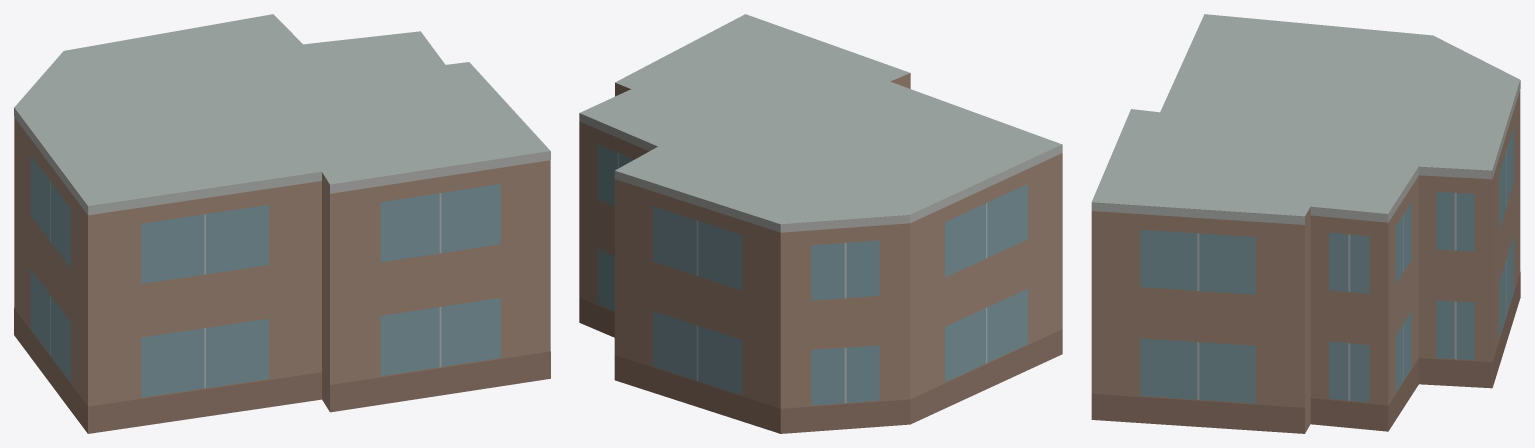
The model's file is survey-upis-32780218.glb.
The picture shows the model from 3 angles, left to right: view 1: azimuth 30°, elevation 25°; view 2: azimuth 150°, elevation 25°; view 3: azimuth 270°, elevation 25°; orthographic projection. The views are drawn at different scales.
Visible parts, largest first — view 1: survey-upis-32780218.tmp; view 2: survey-upis-32780218.tmp; view 3: survey-upis-32780218.tmp.
Boxes of the visible parts, left/top/right/bottom form: survey-upis-32780218.tmp: left=14, top=14, right=550, bottom=433; survey-upis-32780218.tmp: left=579, top=14, right=1062, bottom=433; survey-upis-32780218.tmp: left=1091, top=14, right=1520, bottom=433.
Size of the model in its own units: 12.18 by 6.1 by 10.91.
